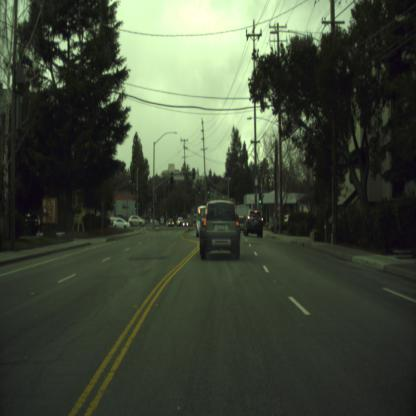Green: (258, 192, 261, 204), (207, 186, 209, 194)
GreenLeft: (198, 186, 200, 194), (134, 204, 136, 210)
